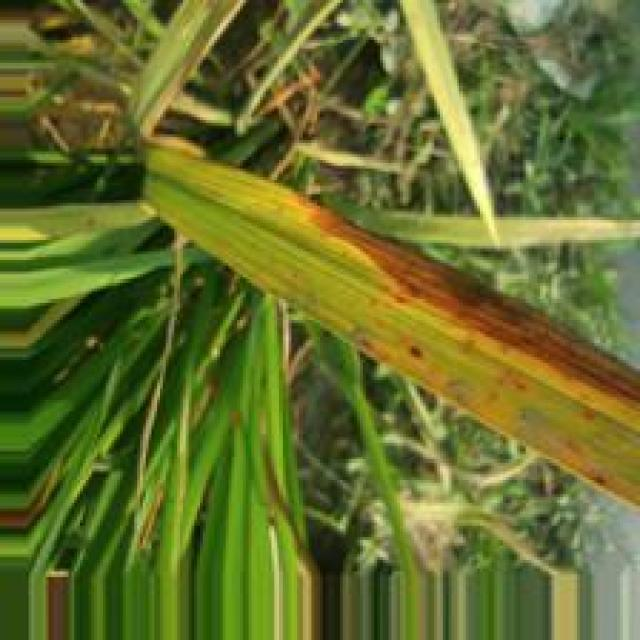Bacterial_Leaf_Blight: (287, 195, 640, 439), (400, 341, 435, 372)
